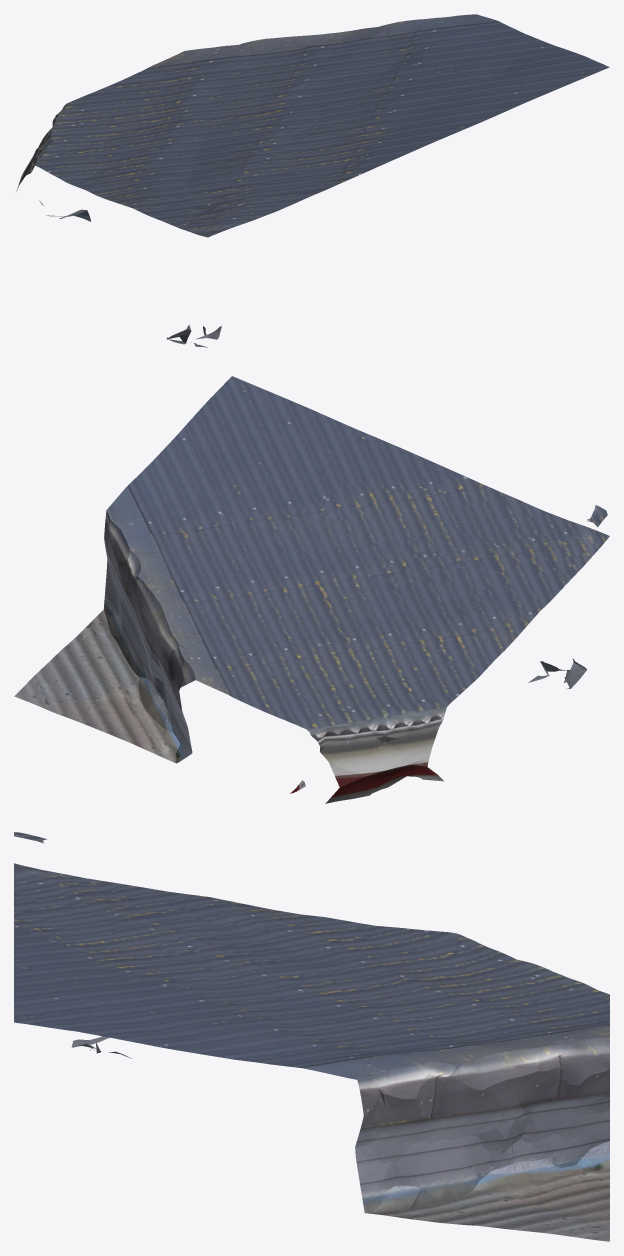
The picture shows the model from 3 angles, top to bottom: view 1: azimuth 30°, elevation 25°; view 2: azimuth 150°, elevation 25°; view 3: azimuth 270°, elevation 25°; orthographic projection. The views are drawn at different scales.
Bounding box in the file's own units: 4.18 × 2.03 × 4.18.
3 materials, 3 textured.
